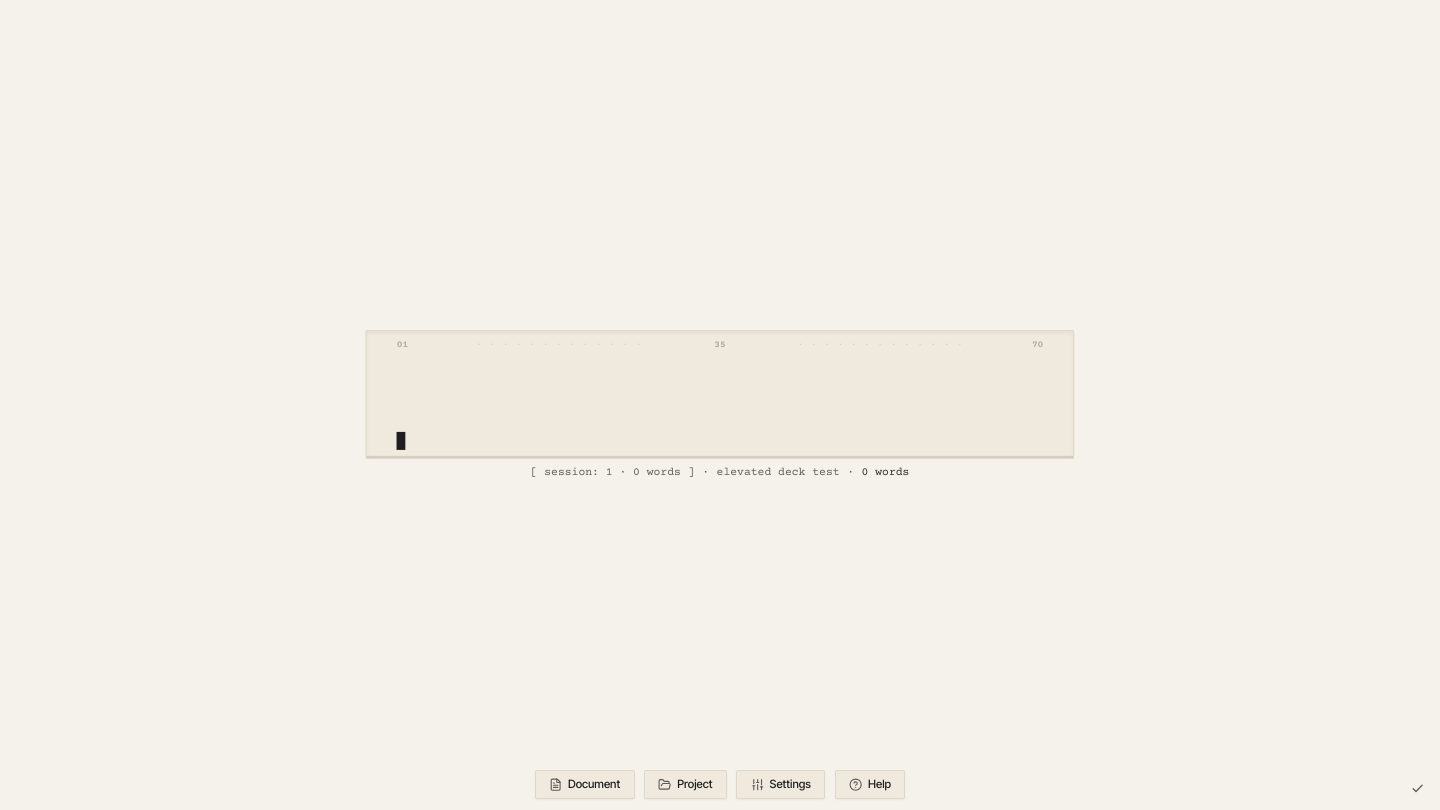
Strategy A - Persistent Elevated Deck & Modal Linking › allows direct 1-tap switching between modals without manual dismiss
Expected: the button with aria-label "Project" is shown, top-left (644, 770), bottom-right (727, 799)
Expected: the button with aria-label "Settings" is shown, top-left (736, 770), bottom-right (825, 799)
Open Document modal
Click the button with aria-label "Document": (585, 784) top-left (535, 770), bottom-right (634, 799)
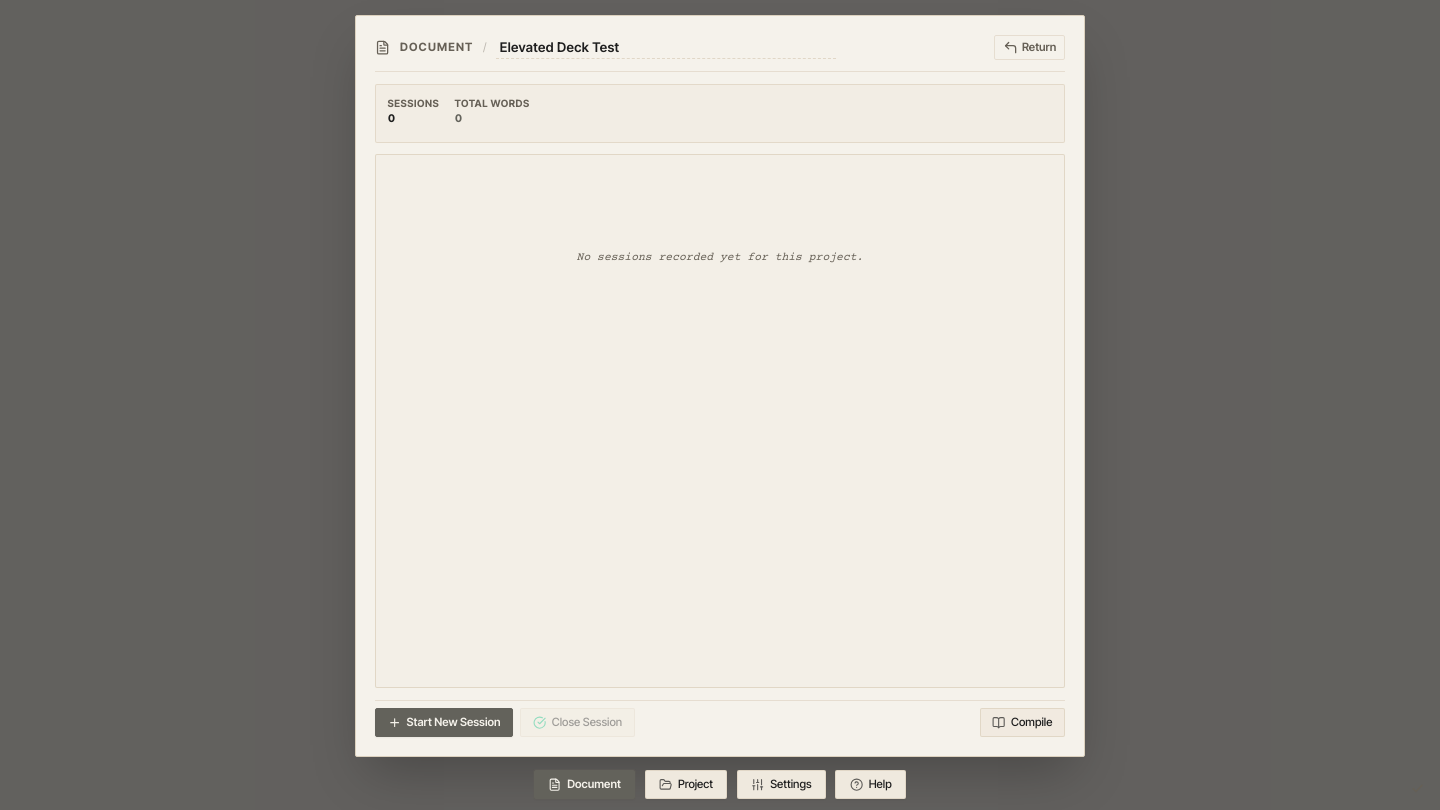
Expected: the dialog named "Document" is shown
Direct 1-tap switch to Project modal
Click the button with aria-label "Project": (686, 784) top-left (645, 770), bottom-right (727, 799)
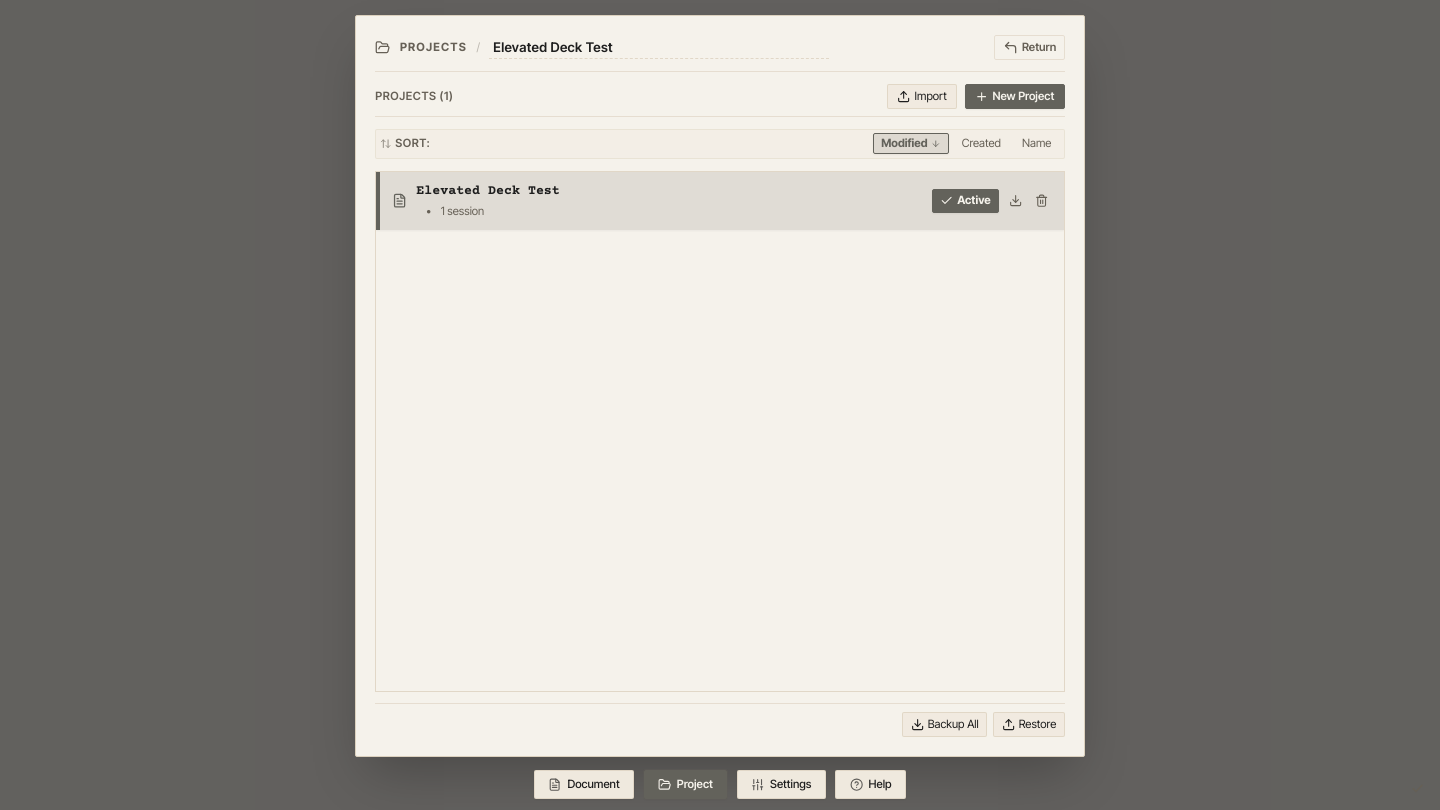
Expected: the dialog named "Project Files" is shown
Direct 1-tap switch to Settings drawer
Click the button with aria-label "Settings": (781, 784) top-left (737, 770), bottom-right (826, 799)
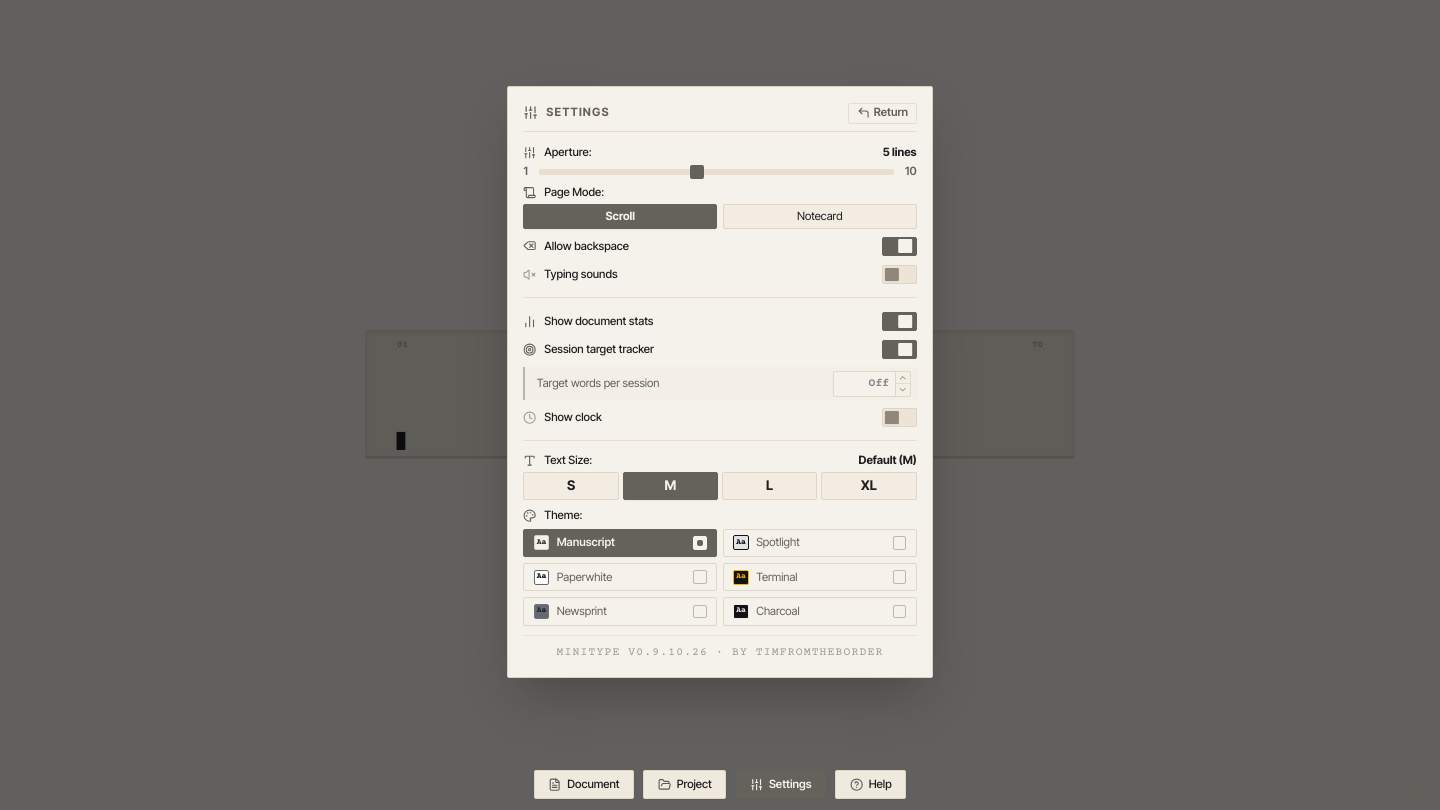
Expected: the dialog named "Settings" is shown
Direct 1-tap switch to Help modal
Click the button with aria-label "Help": (871, 784) top-left (835, 770), bottom-right (906, 799)
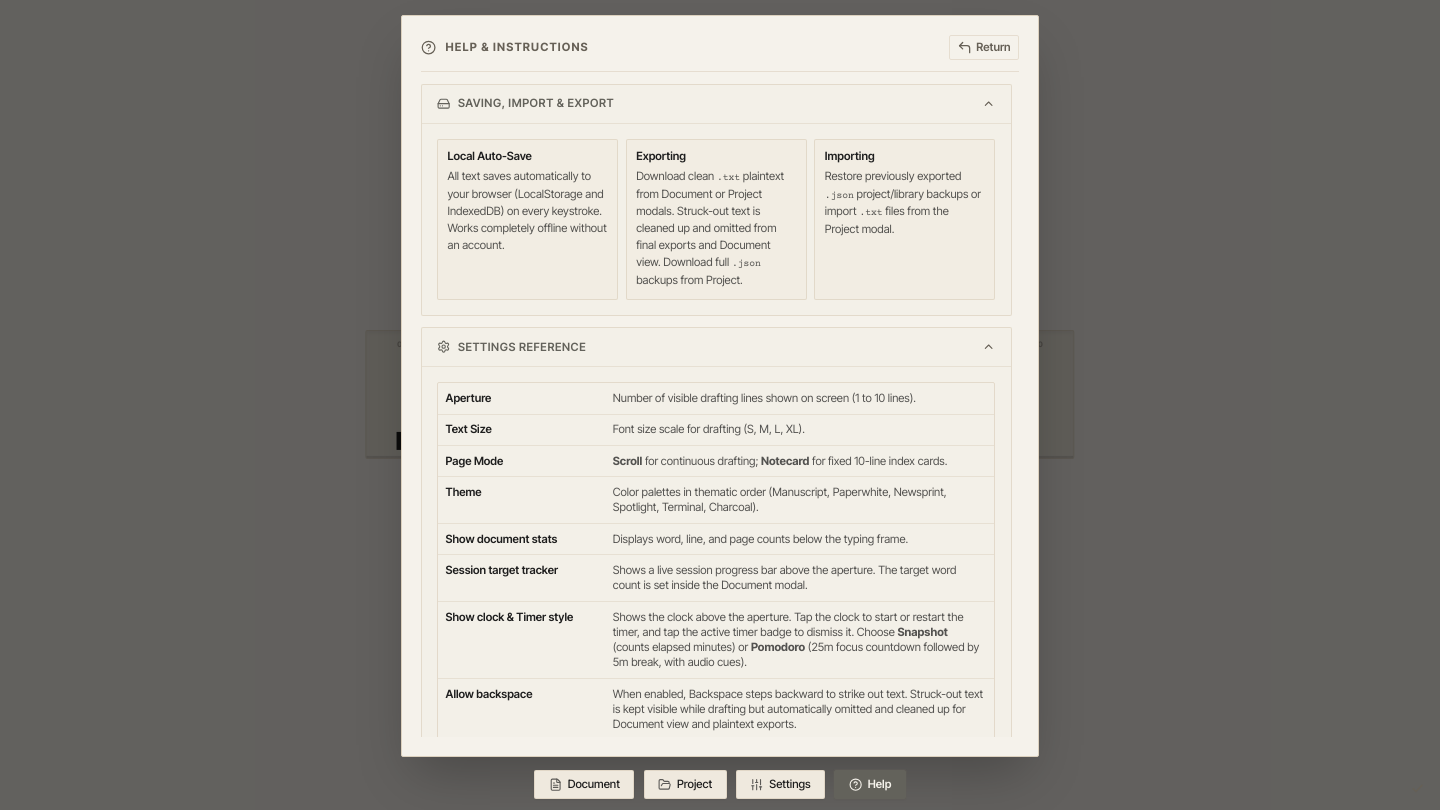
Expected: the dialog named "Help and Instructions" is shown
Toggling active modal button closes the modal
Click the button with aria-label "Help": (870, 784) top-left (834, 770), bottom-right (906, 799)
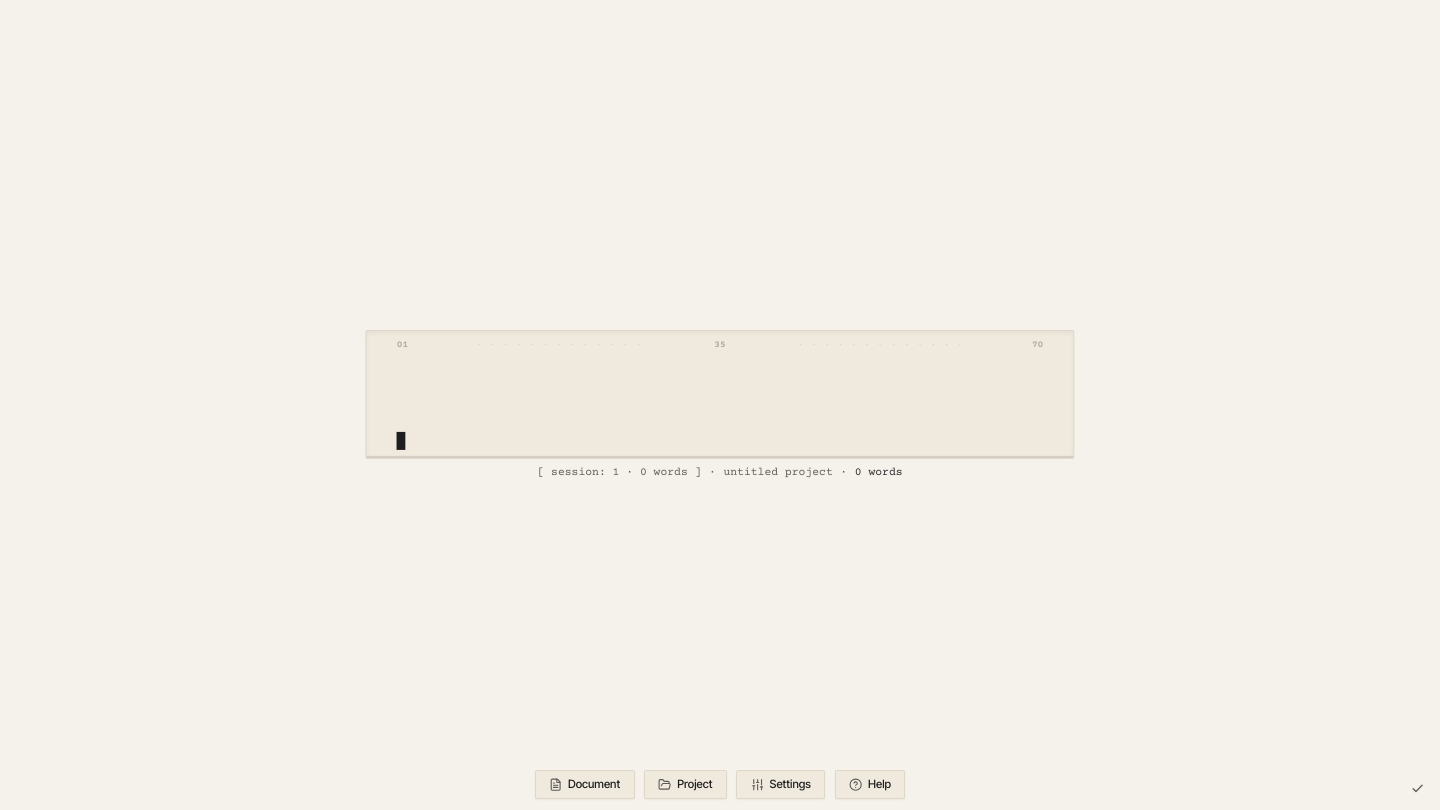
Expected: the dialog is gone
